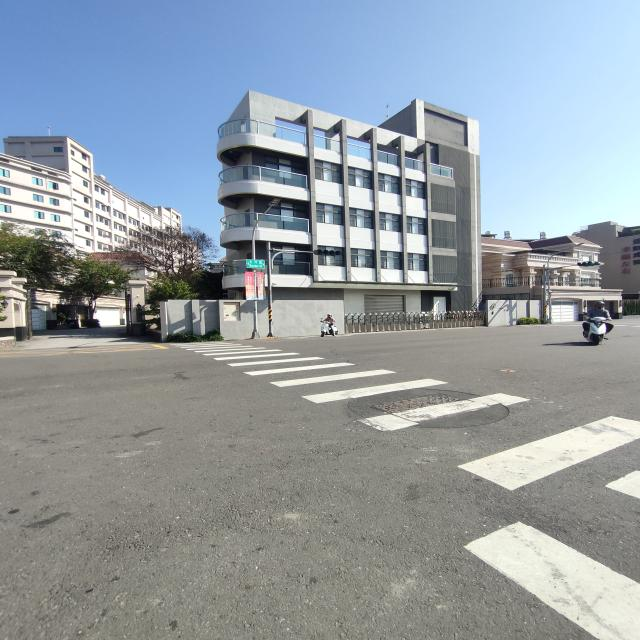person: (582, 300, 612, 338), (323, 314, 335, 336)
zebra crossing: (179, 341, 640, 505)
